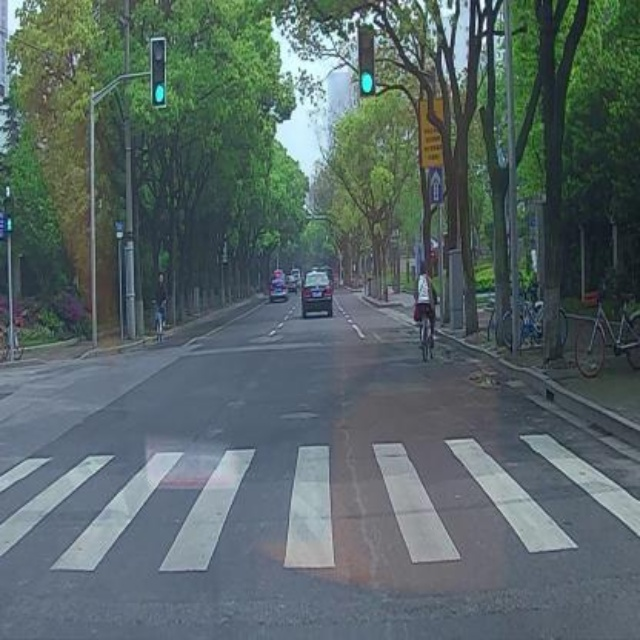Đèn xanh: (358, 23, 375, 94), (151, 35, 166, 108)
